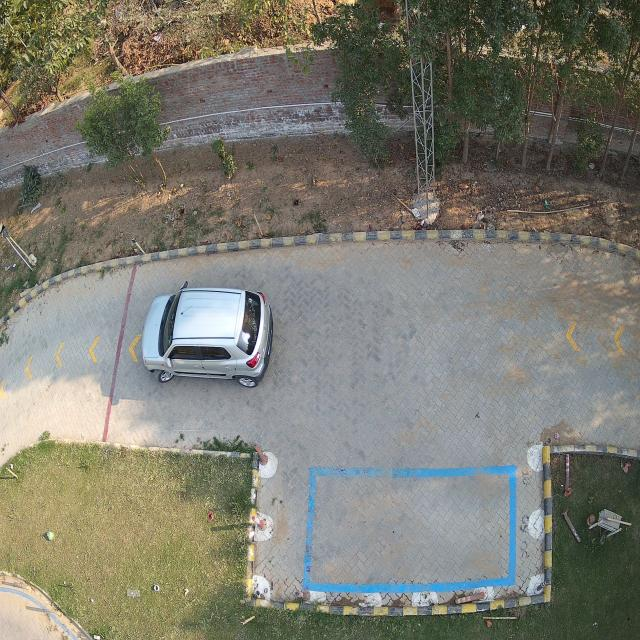car: (140, 287, 276, 389)
